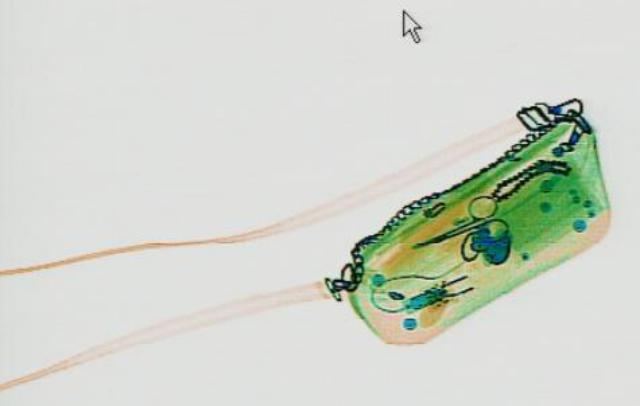Scissors: (393, 191, 527, 261)
